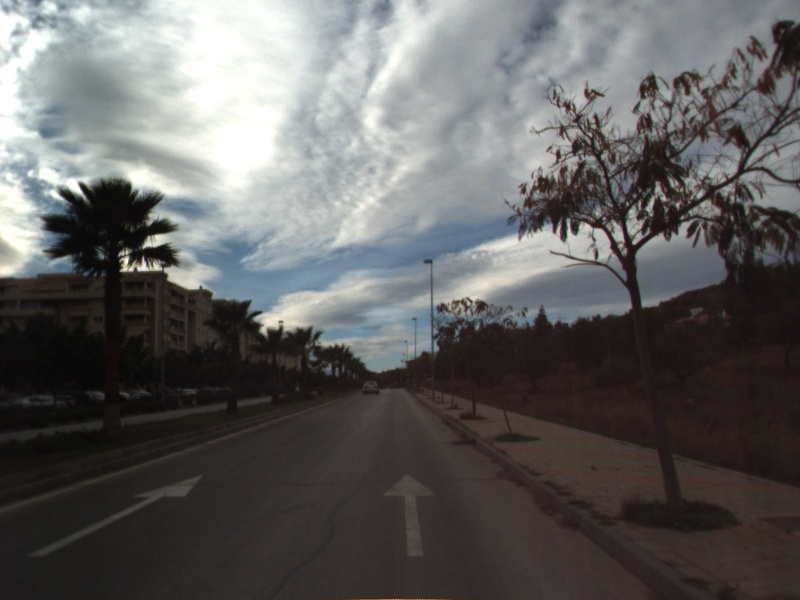STRAIGHT: (24, 472, 206, 559), (381, 471, 439, 559)
